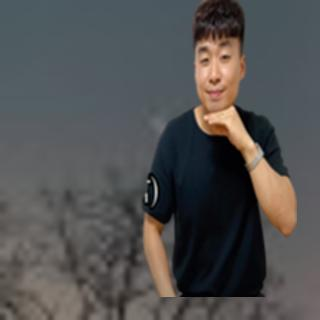Wait: (199, 103, 251, 149)
